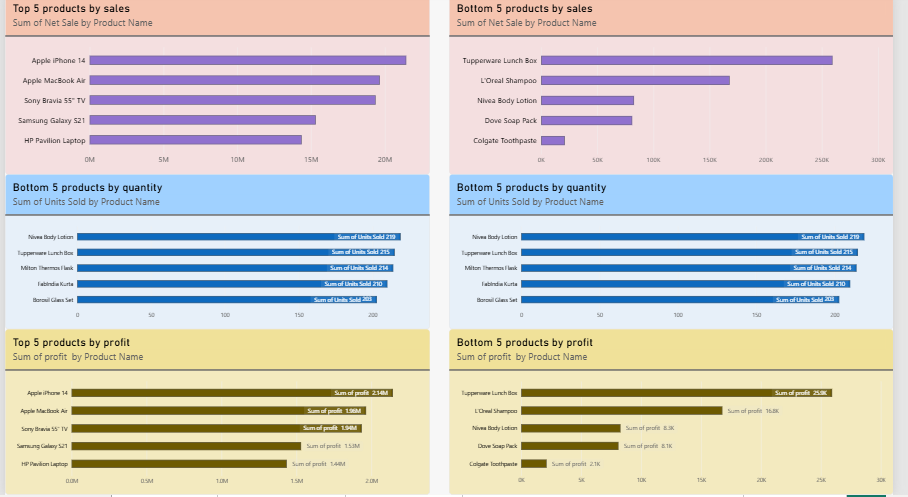

This screenshot's page, from the dashboard's own definition file:
{"tool":"powerbi","page":{"name":"pro by sales","canvas":[1920,1080],"ordinal":0},"visuals":[{"type":"barChart","title":"Top 5 products by sales","fields":{"Category":["Dim Product.Product Name"],"Y":["Sum(Fact Table.Net Sale)"]},"box":[0,0,917.5,387.5],"z":0},{"type":"barChart","title":"Bottom 5 products by sales","fields":{"Category":["Dim Product.Product Name"],"Y":["Sum(Fact Table.Net Sale)"]},"box":[960,0,960,387.5],"z":1000},{"type":"barChart","title":"Bottom 5 products by quantity","fields":{"Category":["Dim Product.Product Name"],"Y":["Sum(Fact Table.Units Sold)"]},"box":[0,387.5,917.5,335],"z":2000},{"type":"barChart","title":"Bottom 5 products by quantity","fields":{"Category":["Dim Product.Product Name"],"Y":["Sum(Fact Table.Units Sold)"]},"box":[960,387.5,960,335],"z":3000},{"type":"barChart","title":"Top 5 products by profit","fields":{"Category":["Dim Product.Product Name"],"Y":["Sum(Fact Table.profit )"]},"box":[0,722,918,358],"z":4000},{"type":"barChart","title":"Bottom 5 products by profit","fields":{"Category":["Dim Product.Product Name"],"Y":["Sum(Fact Table.profit )"]},"box":[960,722.5,960,357.5],"z":5000}]}

Visuals, with their boxes in screenshot pixels (x1, y1, x2, y2), scaled from the page's 1920x1080 canvas onto the 908x497 screenshot:
"Top 5 products by sales" barChart: Rect(0, 0, 434, 178)
"Bottom 5 products by sales" barChart: Rect(454, 0, 907, 178)
"Bottom 5 products by quantity" barChart: Rect(0, 178, 434, 332)
"Bottom 5 products by quantity" barChart: Rect(454, 178, 907, 332)
"Top 5 products by profit" barChart: Rect(0, 332, 434, 496)
"Bottom 5 products by profit" barChart: Rect(454, 332, 907, 496)
